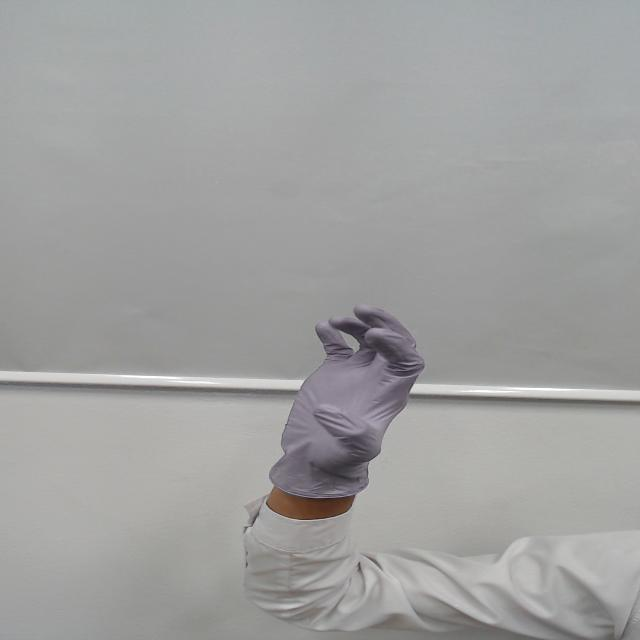glove: (266, 306, 435, 464)
